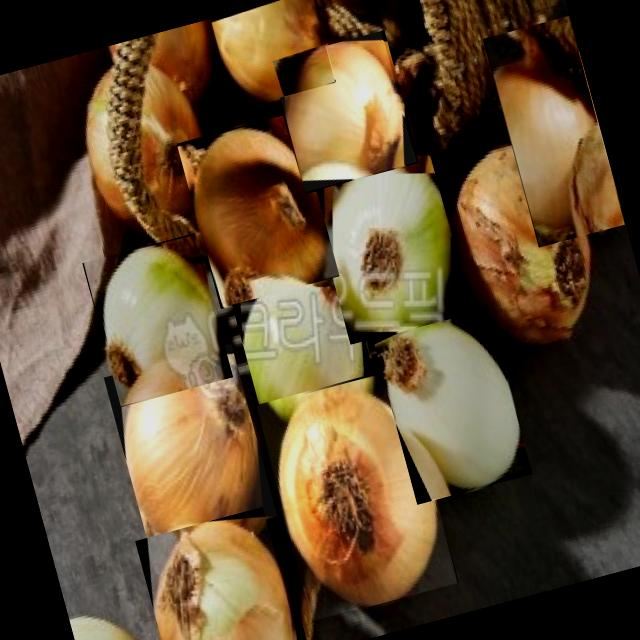healthy: (279, 384, 436, 604), (124, 358, 257, 533), (382, 319, 518, 488), (325, 156, 451, 332), (492, 30, 596, 240), (194, 127, 326, 283), (242, 250, 361, 416), (154, 520, 295, 640), (102, 246, 218, 385), (288, 42, 404, 176), (211, 0, 319, 100)
